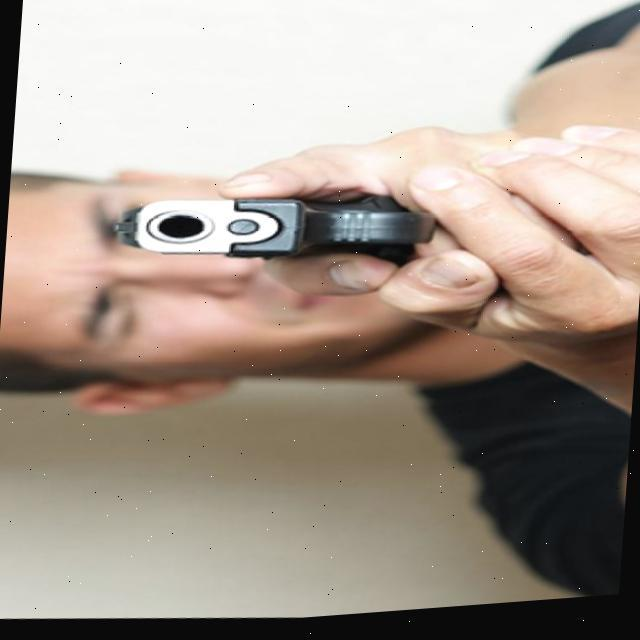gun: (110, 180, 438, 279)
